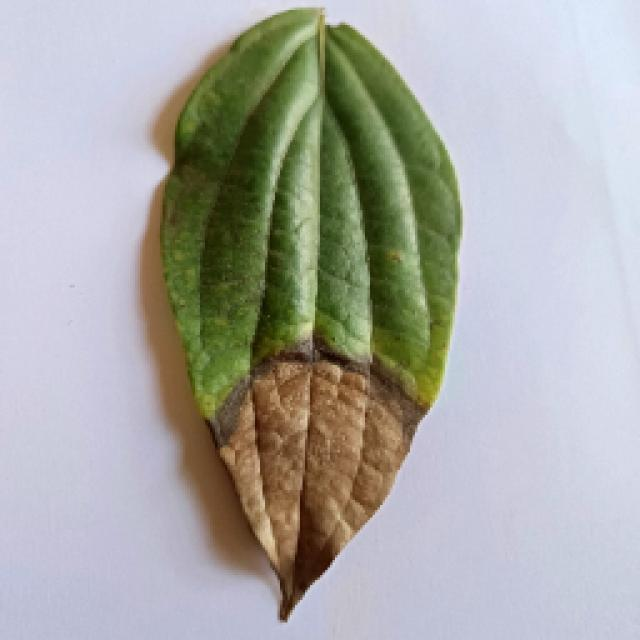footrot: (137, 15, 475, 623)
